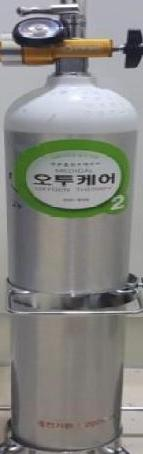cylinder: (1, 1, 143, 454)
